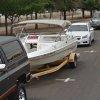Boat: (9, 15, 85, 83)
